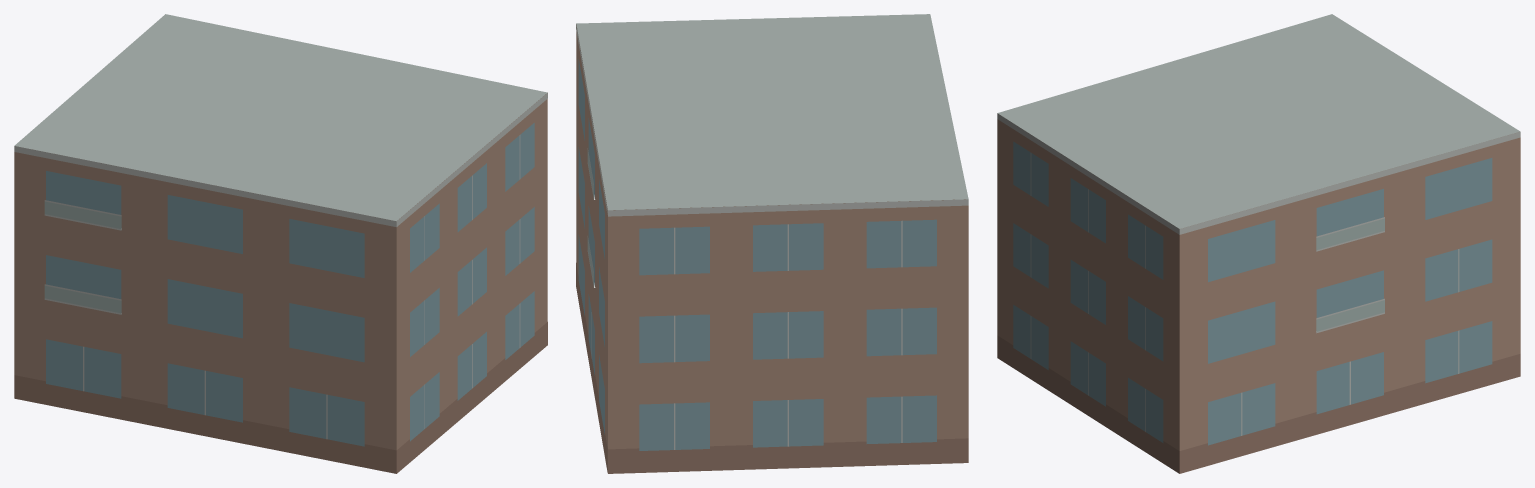
Rendered from survey-upis-32852407.glb.
3 renders of one model, left to right at view 1: azimuth 30°, elevation 25°; view 2: azimuth 150°, elevation 25°; view 3: azimuth 270°, elevation 25°, orthographic. The views are drawn at different scales.
Parts seen in each view (by area): view 1: survey-upis-32852407.tmp; view 2: survey-upis-32852407.tmp; view 3: survey-upis-32852407.tmp.
Part boxes in pixels (<box>): survey-upis-32852407.tmp: <box>14,14,547,473</box>; survey-upis-32852407.tmp: <box>576,14,968,473</box>; survey-upis-32852407.tmp: <box>997,14,1520,473</box>.
Bounding box in the file's own units: 19.22 × 10.2 × 19.77.
